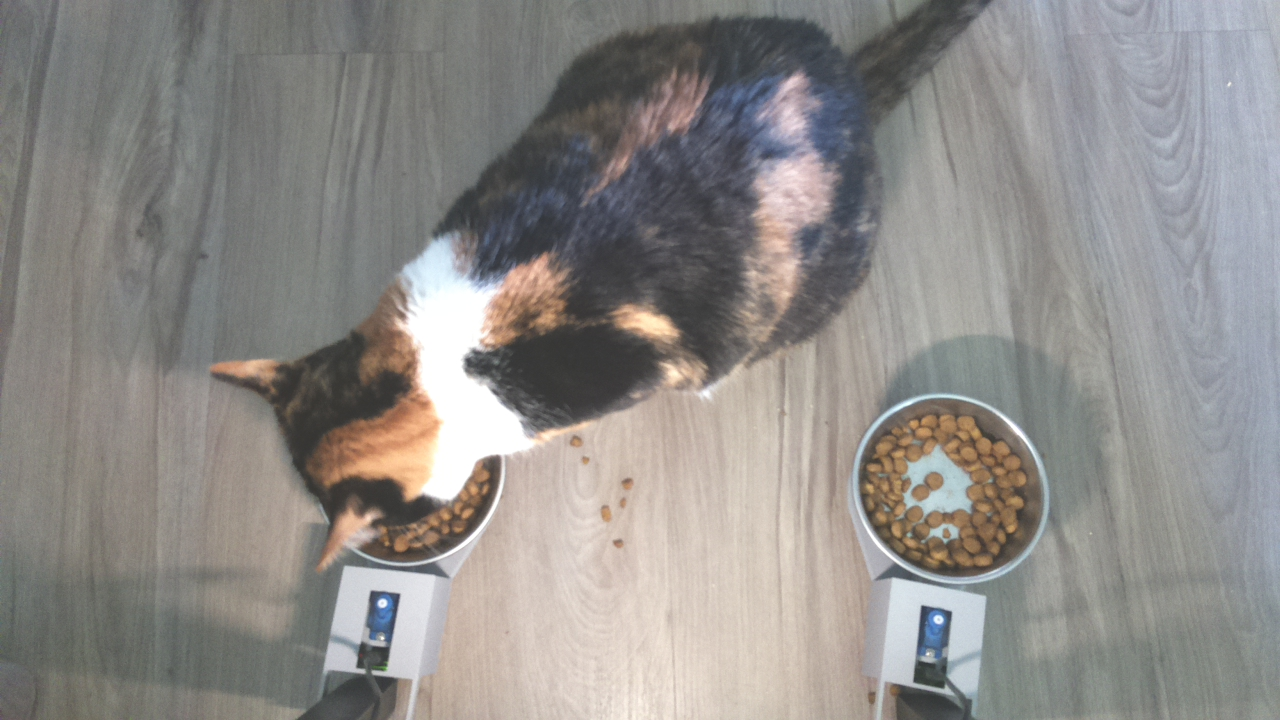bella_eating: (207, 262, 536, 572)
open_bowl: (847, 392, 1054, 591)
